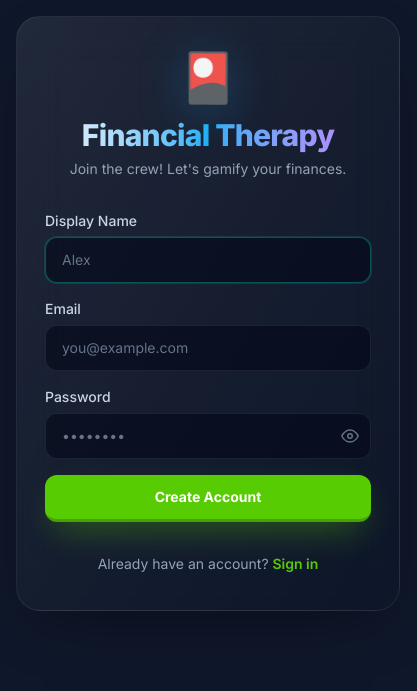
Scenario: SignUpPage › displays error when signUp rejects
Step 1. Type "Test" into the field labelled "Display Name" → (208, 260), box [45,237,371,283]
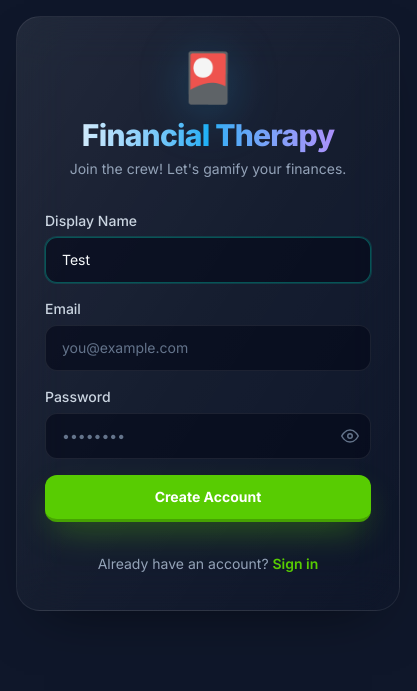
Step 2. Type "existing@example.com" into the field labelled "Email" → (208, 348), box [45,325,371,371]
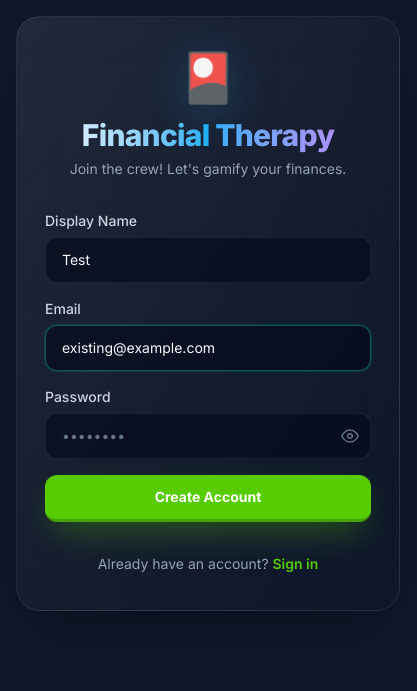
Step 3. Type "pass123" into the password field labelled "Password" → (208, 436), box [45,413,371,459]
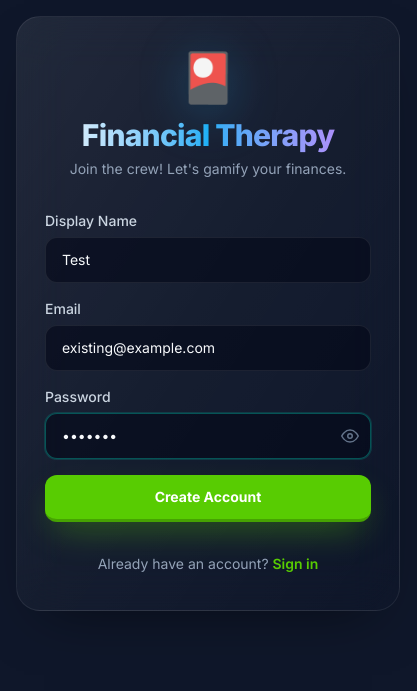
Step 4. Click the button "Create Account" → (208, 498), box [45,475,371,522]
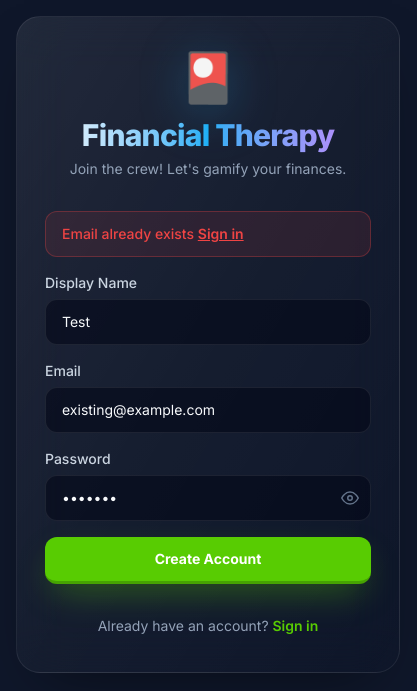
Expected: the text "Email already exists Sign in" is shown, [45,211,371,257]
